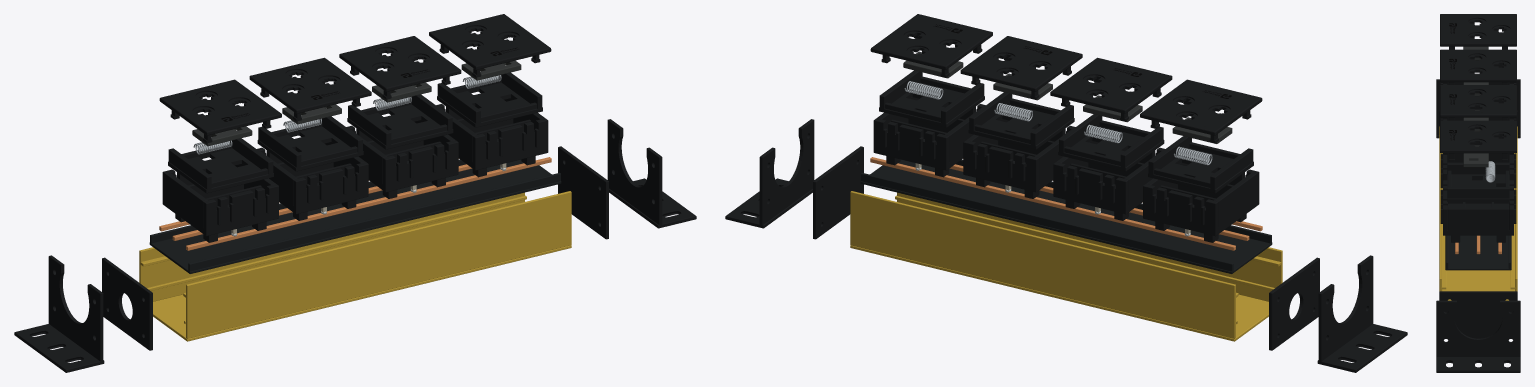
File: powerconnex_exploded.glb
3 renders of one model, left to right at view 1: azimuth 30°, elevation 25°; view 2: azimuth 150°, elevation 25°; view 3: azimuth 270°, elevation 25°, orthographic. The views are drawn at different scales.
Parts seen in each view (by area): view 1: Aluminum_Alloy_Housing, PVC_Insulation_Liner, Outlet_01_Molded_Outlet_Body, Mounting_Bracket_Left, Outlet_04_Molded_Outlet_Body, Outlet_03_Molded_Outlet_Body, Outlet_02_Molded_Outlet_Body, Outlet_01_Faceplate, Outlet_03_Faceplate, Outlet_04_Faceplate, Outlet_02_Faceplate, Mounting_Bracket_Right (+12 smaller); view 2: Aluminum_Alloy_Housing, PVC_Insulation_Liner, Outlet_01_Molded_Outlet_Body, Mounting_Bracket_Left, Outlet_04_Molded_Outlet_Body, Outlet_03_Molded_Outlet_Body, Outlet_02_Molded_Outlet_Body, Outlet_03_Faceplate, Outlet_01_Faceplate, Outlet_04_Faceplate, Outlet_02_Faceplate, Mounting_Bracket_Right (+8 smaller); view 3: Mounting_Bracket_Right, Outlet_04_Molded_Outlet_Body, Aluminum_Alloy_Housing, Outlet_04_Faceplate, Outlet_02_Faceplate, Outlet_01_Faceplate, Outlet_03_Faceplate, End_Plate_Right, Outlet_04_Shutter_Carrier, PVC_Insulation_Liner, Outlet_03_Molded_Outlet_Body, Mounting_Bracket_Left (+11 smaller).
Part boxes in pixels (<box>): Aluminum_Alloy_Housing: <box>139,191,571,341</box>; PVC_Insulation_Liner: <box>149,159,561,273</box>; Outlet_01_Molded_Outlet_Body: <box>162,164,278,242</box>; Mounting_Bracket_Left: <box>14,255,104,372</box>; Outlet_04_Molded_Outlet_Body: <box>436,98,548,177</box>; Outlet_03_Molded_Outlet_Body: <box>346,120,458,198</box>; Outlet_02_Molded_Outlet_Body: <box>257,142,368,220</box>; Outlet_01_Faceplate: <box>159,79,281,143</box>; Outlet_03_Faceplate: <box>339,36,461,99</box>; Outlet_04_Faceplate: <box>429,14,551,77</box>; Outlet_02_Faceplate: <box>249,57,371,121</box>; Mounting_Bracket_Right: <box>607,119,696,228</box>; Aluminum_Alloy_Housing: <box>850,191,1282,341</box>; PVC_Insulation_Liner: <box>860,159,1272,273</box>; Outlet_01_Molded_Outlet_Body: <box>1143,162,1259,242</box>; Mounting_Bracket_Left: <box>1317,255,1407,372</box>; Outlet_04_Molded_Outlet_Body: <box>873,97,985,177</box>; Outlet_03_Molded_Outlet_Body: <box>963,119,1075,198</box>; Outlet_02_Molded_Outlet_Body: <box>1053,141,1164,220</box>; Outlet_03_Faceplate: <box>960,36,1082,99</box>; Outlet_01_Faceplate: <box>1140,79,1262,143</box>; Outlet_04_Faceplate: <box>870,14,992,77</box>; Outlet_02_Faceplate: <box>1050,57,1172,121</box>; Mounting_Bracket_Right: <box>725,119,814,228</box>; Mounting_Bracket_Right: <box>1436,300,1520,372</box>; Outlet_04_Molded_Outlet_Body: <box>1440,180,1516,242</box>; Aluminum_Alloy_Housing: <box>1439,126,1517,300</box>; Outlet_04_Faceplate: <box>1440,120,1516,161</box>; Outlet_02_Faceplate: <box>1440,49,1516,84</box>; Outlet_01_Faceplate: <box>1440,14,1516,49</box>; Outlet_03_Faceplate: <box>1440,85,1516,120</box>; End_Plate_Right: <box>1439,291,1517,338</box>; Outlet_04_Shutter_Carrier: <box>1447,162,1509,201</box>; PVC_Insulation_Liner: <box>1445,235,1511,270</box>; Outlet_03_Molded_Outlet_Body: <box>1440,153,1516,188</box>; Mounting_Bracket_Left: <box>1436,79,1520,138</box>.
Bounding box in the file's own units: 0.492 × 0.1525 × 0.07.
Materials: 10 (1 with a texture image).
